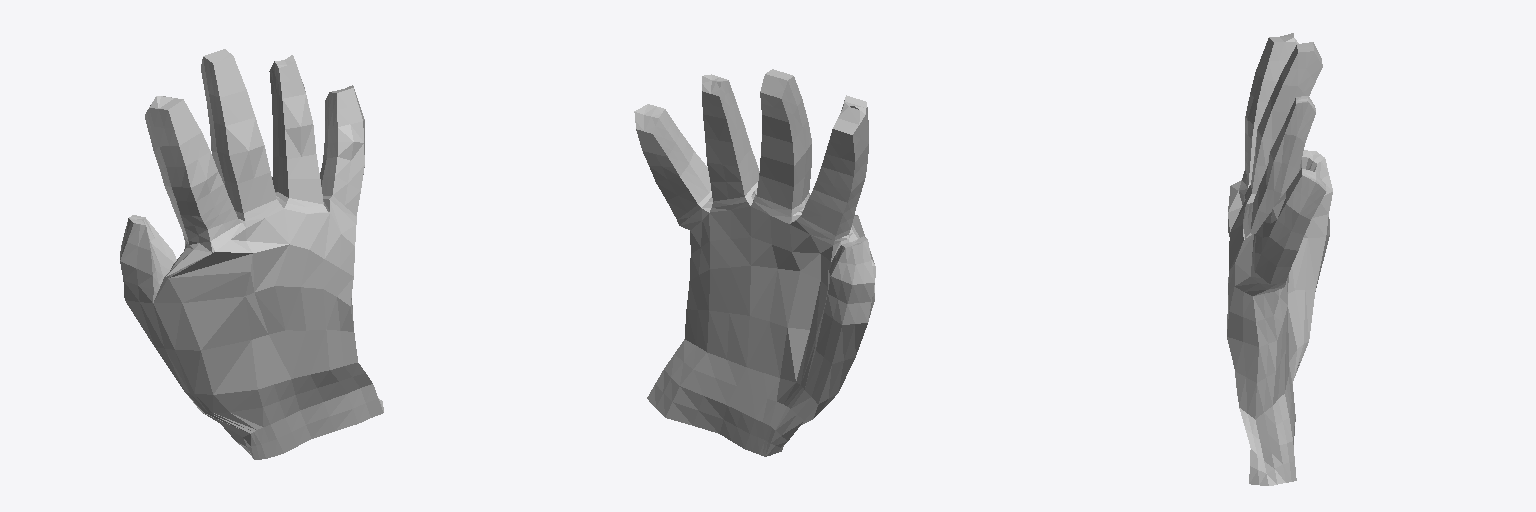
The model's file is hand_sub2_triang0010.obj.
3 views of the same model, side by side, from view 1: azimuth 30°, elevation 25°; view 2: azimuth 150°, elevation 25°; view 3: azimuth 270°, elevation 25° (orthographic).
Visible parts, largest first — view 1: Hand; view 2: Hand; view 3: Hand.
Part boxes in pixels (x1,y1,x2,y2): Hand: (120, 49, 383, 459); Hand: (634, 69, 875, 456); Hand: (1227, 33, 1332, 485).
Bounding box in the file's own units: 3.13 × 4.87 × 1.19.